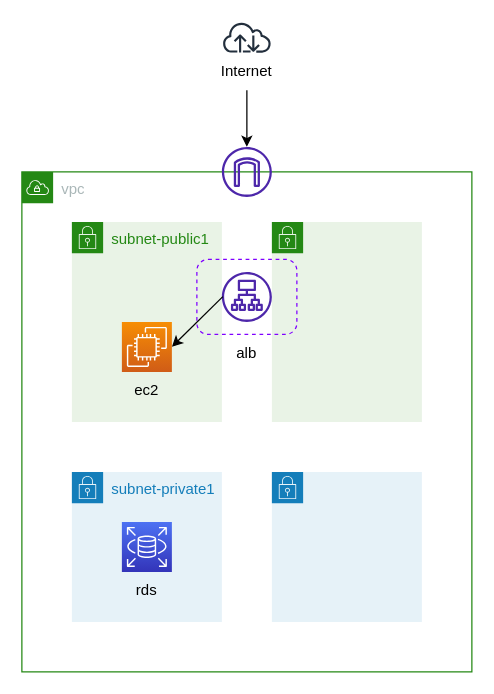
Image size: 494x694. Some labels were removed from this diagram. Here are the shapes that lost their labels. From the top down, the centre of each, then its label:
At (346,321): "subnet-public2".
At (346,546): "subnet-private2".
